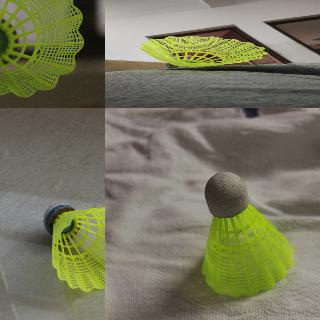shuttlecock: (200, 171, 294, 297), (0, 0, 84, 98), (43, 203, 104, 292), (138, 36, 268, 68)
